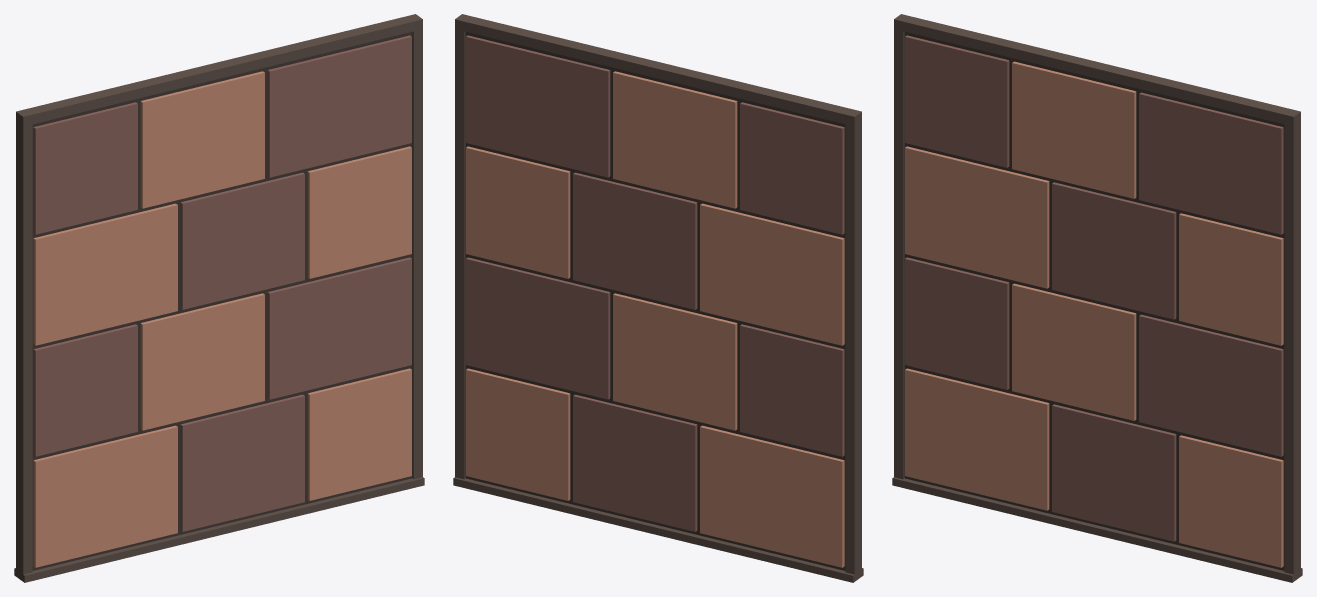
Rendered from screen-partition-acoustic.glb.
3 views of the same model, side by side, from view 1: azimuth 30°, elevation 25°; view 2: azimuth 150°, elevation 25°; view 3: azimuth 330°, elevation 25° (orthographic).
Visible parts, largest first — view 1: acoustic-frame, acoustic-tile-1-1, acoustic-tile-3-1, acoustic-tile-2-3, acoustic-tile-4-3, acoustic-tile-1-2, acoustic-tile-3-2, acoustic-tile-2-2, acoustic-tile-4-2, acoustic-tile-2-1, acoustic-tile-4-1, acoustic-tile-1-3 (+3 smaller); view 2: acoustic-frame, acoustic-tile-1-1, acoustic-tile-3-1, acoustic-tile-2-3, acoustic-tile-4-3, acoustic-tile-1-2, acoustic-tile-3-2, acoustic-tile-2-2, acoustic-tile-4-2, acoustic-tile-2-1, acoustic-tile-4-1, acoustic-tile-1-3 (+3 smaller); view 3: acoustic-frame, acoustic-tile-2-3, acoustic-tile-4-3, acoustic-tile-1-1, acoustic-tile-3-1, acoustic-tile-1-2, acoustic-tile-2-2, acoustic-tile-3-2, acoustic-tile-4-2, acoustic-tile-1-3, acoustic-tile-3-3, acoustic-tile-2-1 (+3 smaller).
Part boxes in pixels (<box>): acoustic-frame: <box>16,14,422,574</box>; acoustic-tile-1-1: <box>33,425,177,567</box>; acoustic-tile-3-1: <box>33,203,177,345</box>; acoustic-tile-2-3: <box>267,257,411,399</box>; acoustic-tile-4-3: <box>267,35,411,177</box>; acoustic-tile-1-2: <box>180,394,304,531</box>; acoustic-tile-3-2: <box>180,172,304,309</box>; acoustic-tile-2-2: <box>140,293,264,430</box>; acoustic-tile-4-2: <box>140,71,264,208</box>; acoustic-tile-2-1: <box>33,324,137,456</box>; acoustic-tile-4-1: <box>33,102,137,234</box>; acoustic-tile-1-3: <box>307,368,411,500</box>; acoustic-frame: <box>455,14,861,574</box>; acoustic-tile-1-1: <box>700,425,844,567</box>; acoustic-tile-3-1: <box>700,203,844,345</box>; acoustic-tile-2-3: <box>466,257,610,399</box>; acoustic-tile-4-3: <box>466,35,610,177</box>; acoustic-tile-1-2: <box>573,394,697,531</box>; acoustic-tile-3-2: <box>573,172,697,309</box>; acoustic-tile-2-2: <box>613,293,737,430</box>; acoustic-tile-4-2: <box>613,71,737,208</box>; acoustic-tile-2-1: <box>740,324,844,456</box>; acoustic-tile-4-1: <box>740,102,844,234</box>; acoustic-tile-1-3: <box>466,368,570,500</box>; acoustic-frame: <box>894,14,1300,574</box>; acoustic-tile-2-3: <box>1139,314,1283,456</box>; acoustic-tile-4-3: <box>1139,92,1283,234</box>; acoustic-tile-1-1: <box>905,368,1049,510</box>; acoustic-tile-3-1: <box>905,146,1049,288</box>; acoustic-tile-1-2: <box>1052,404,1176,541</box>; acoustic-tile-2-2: <box>1012,283,1136,420</box>; acoustic-tile-3-2: <box>1052,182,1176,319</box>; acoustic-tile-4-2: <box>1012,61,1136,198</box>; acoustic-tile-1-3: <box>1179,435,1283,567</box>; acoustic-tile-3-3: <box>1179,213,1283,345</box>; acoustic-tile-2-1: <box>905,257,1009,389</box>.
Bounding box in the file's own units: 1.8 × 2 × 0.08.
